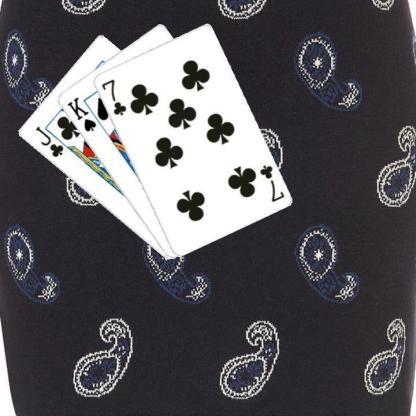7C: (256, 162, 286, 204), (98, 76, 128, 117)
JC: (32, 124, 65, 159)
KS: (64, 94, 98, 133)
